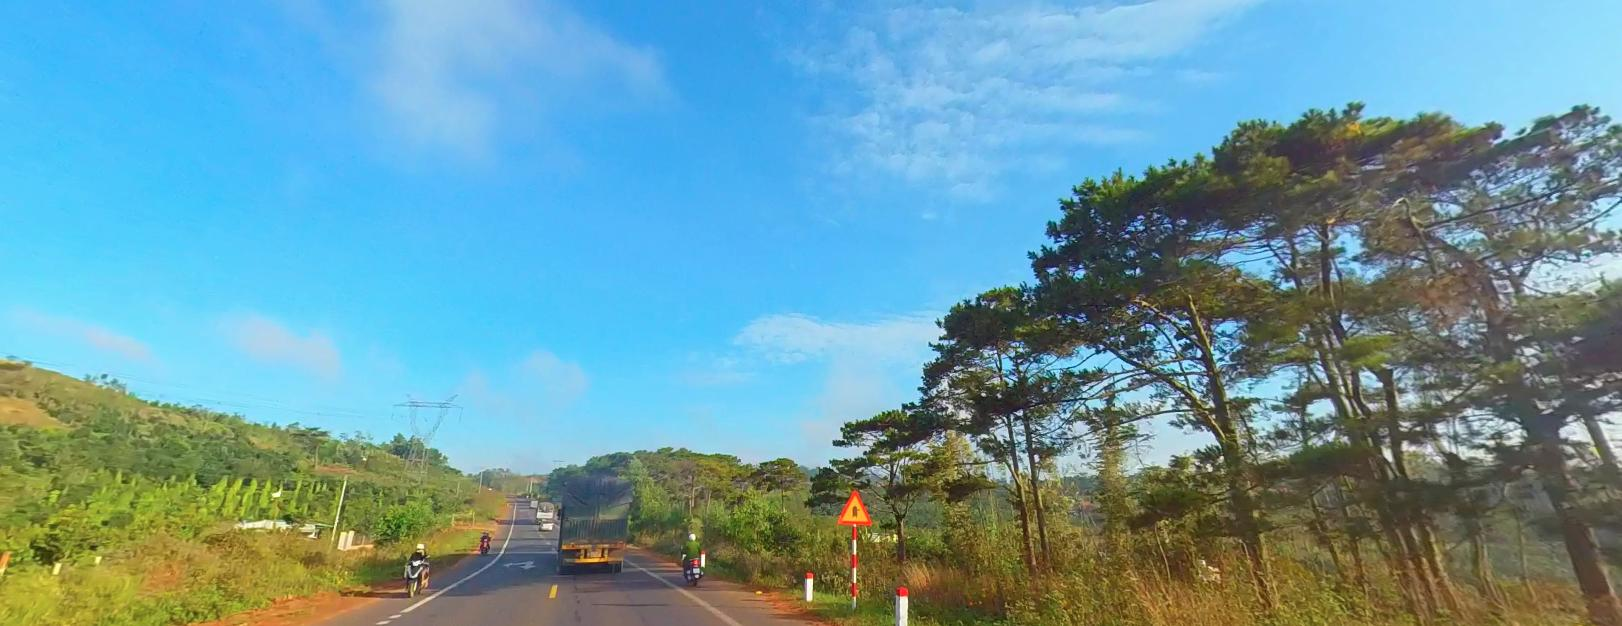Nguy hiem: (837, 489, 872, 523)
